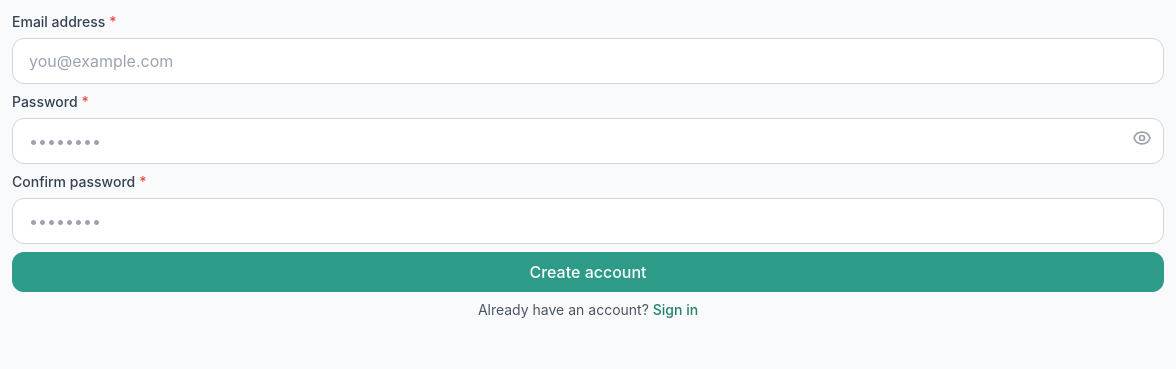
EmailPasswordForm › REGISTER MODE › Happy Path › shows inline error when passwords do not match
In the field labelled "Email address*": (588, 61) [12,38,1164,84], type "test@example.com"
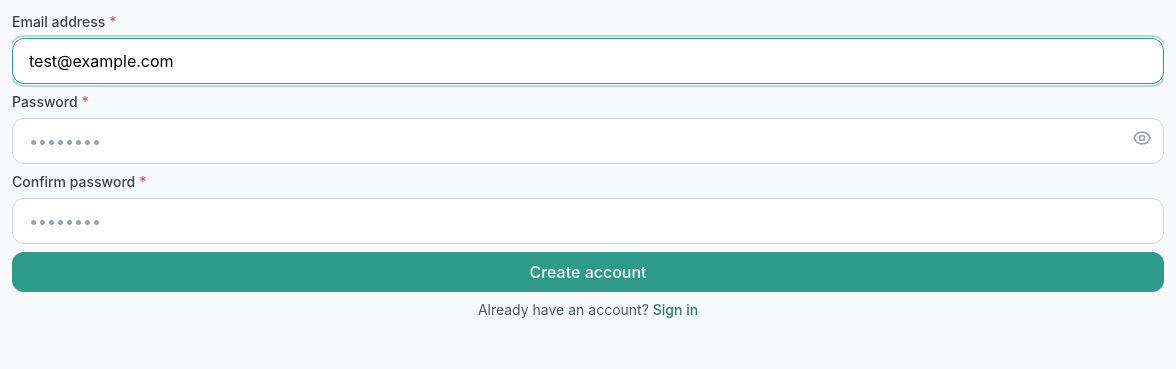
In the password field labelled "Password*": (588, 141) [12,118,1164,164], type "Password123!"
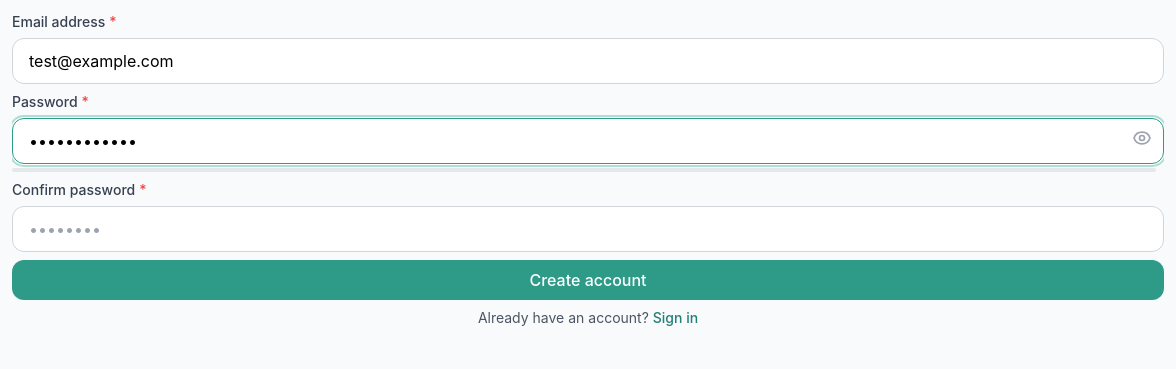
In the password field labelled "Confirm password*": (588, 229) [12,206,1164,252], type "DifferentPassword!"
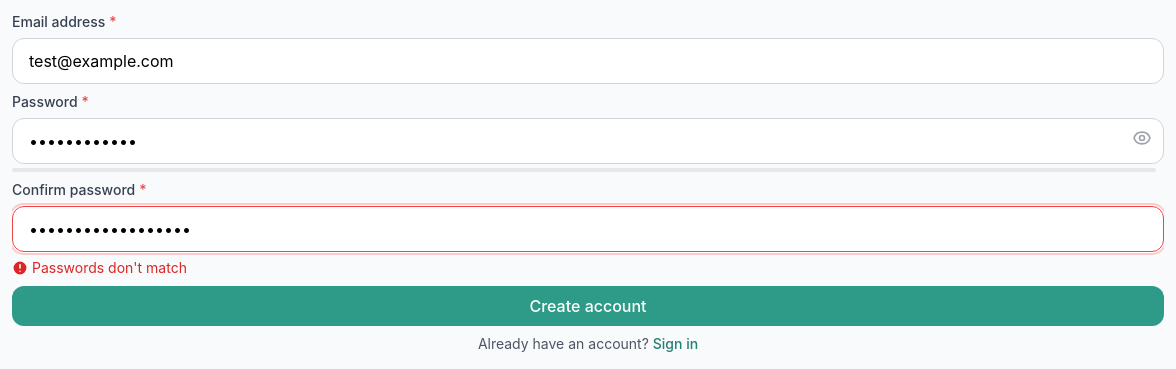
Now the text "Passwords don't match" is shown, box [12,259,187,276]
